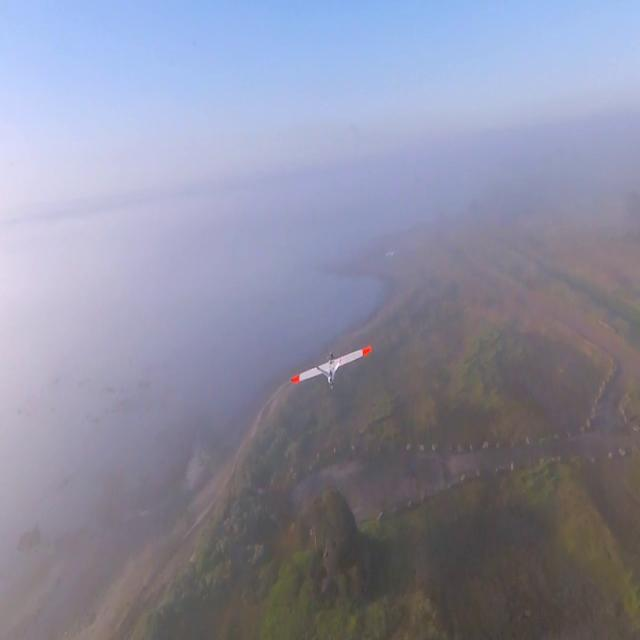iha: (317, 345, 334, 395)
